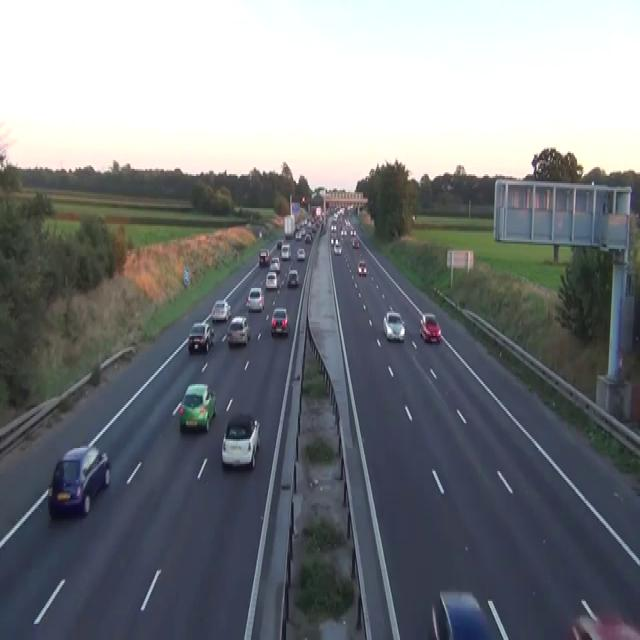Car: (47, 445, 110, 519), (429, 588, 503, 638), (221, 412, 260, 470), (570, 608, 639, 638), (179, 382, 216, 432), (187, 322, 212, 354), (382, 309, 405, 342), (226, 315, 250, 345), (419, 311, 441, 343), (271, 308, 289, 336), (210, 298, 231, 322), (245, 286, 264, 311), (203, 317, 214, 343), (265, 270, 277, 290), (258, 247, 269, 267), (287, 268, 299, 286), (357, 258, 366, 276), (281, 242, 290, 260), (269, 256, 280, 270), (333, 240, 342, 254), (297, 247, 305, 260), (304, 233, 312, 242), (277, 238, 283, 249), (446, 182, 454, 190), (352, 238, 359, 247), (295, 231, 301, 240), (330, 222, 336, 231), (340, 228, 346, 236), (339, 206, 344, 215), (258, 228, 262, 238), (350, 228, 355, 236), (333, 210, 338, 218), (330, 234, 334, 243), (301, 195, 305, 202)
Truck: (283, 214, 295, 238)
